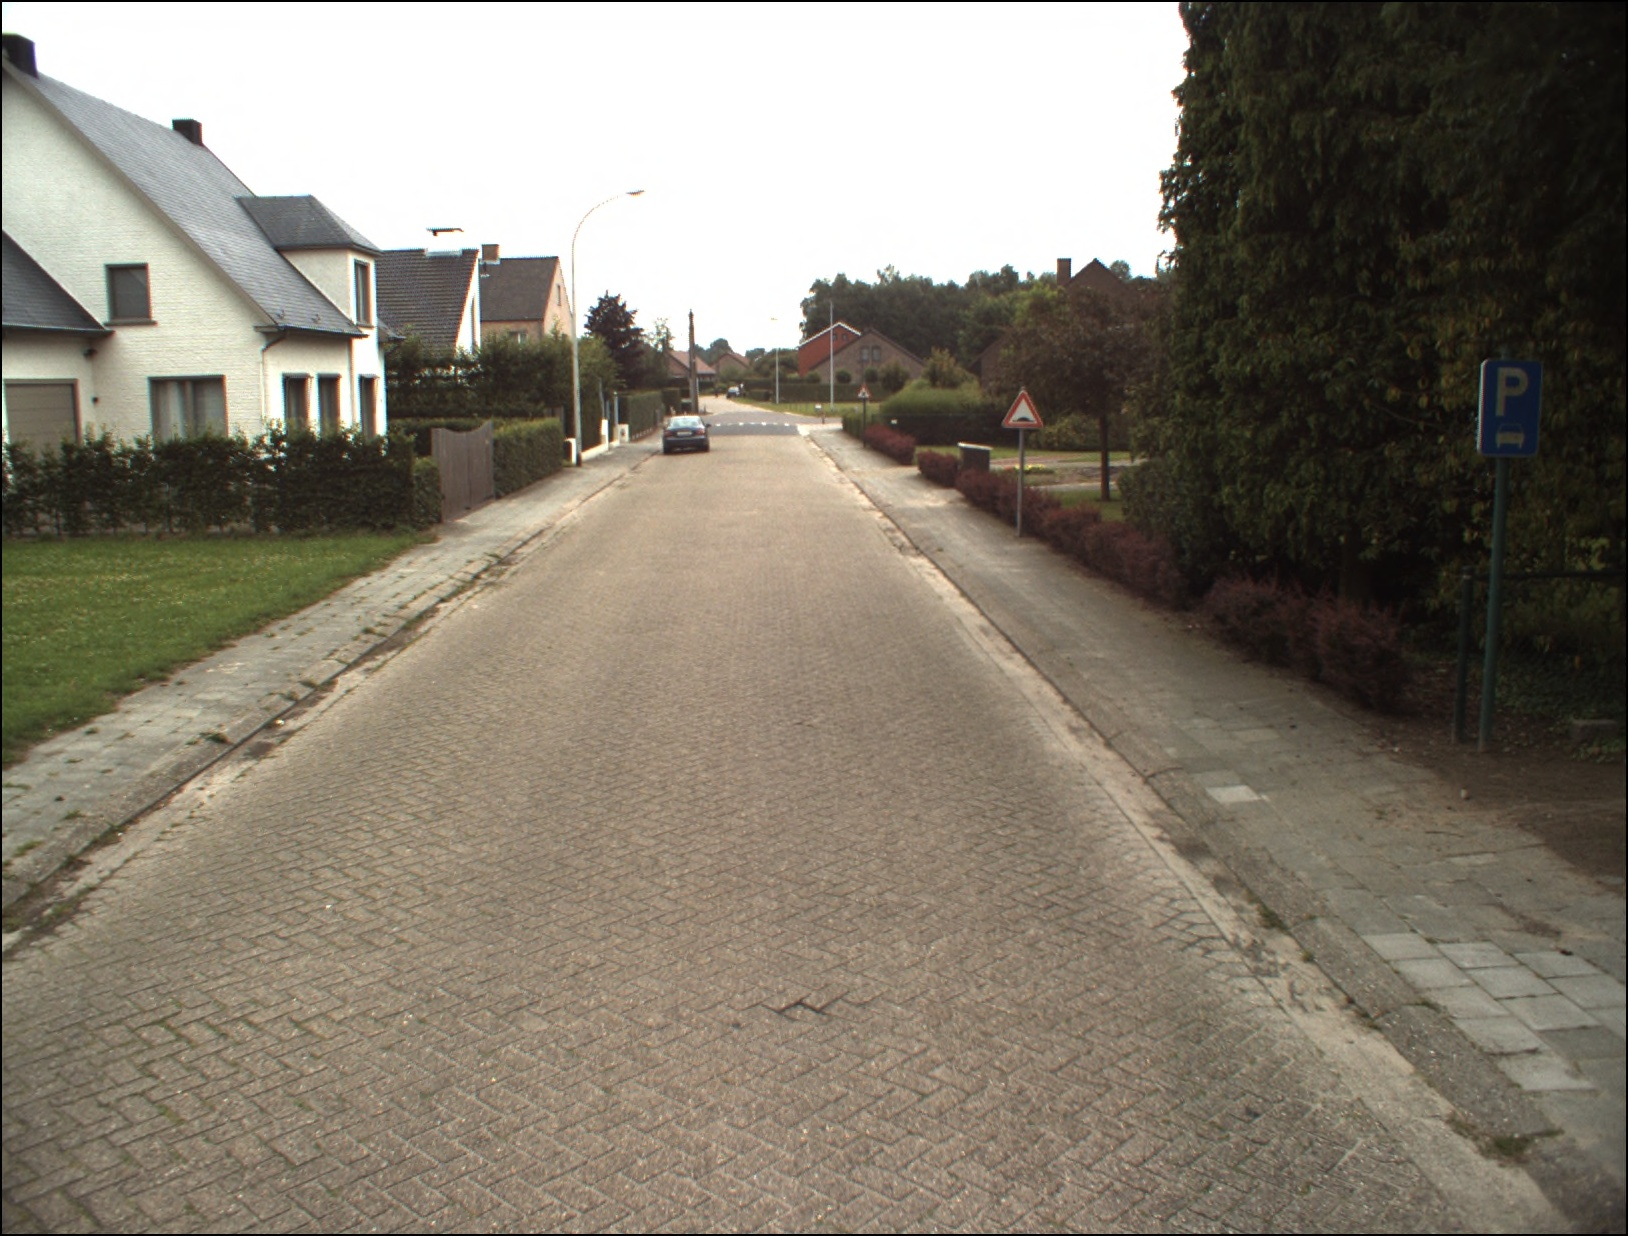parking: (1475, 361, 1541, 456)
speedbump: (997, 391, 1048, 431)
